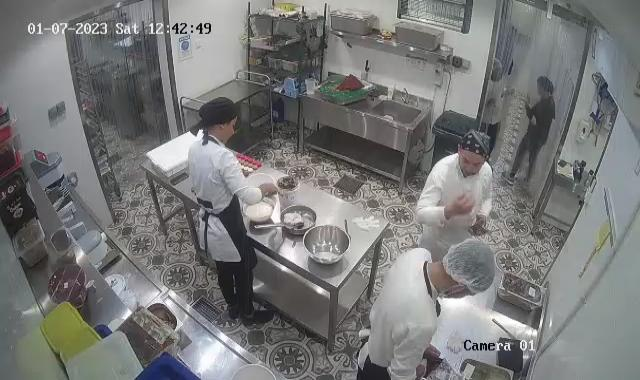hairnet: (442, 236, 497, 296)
no_hairnet: (198, 94, 237, 131), (459, 132, 491, 162)
